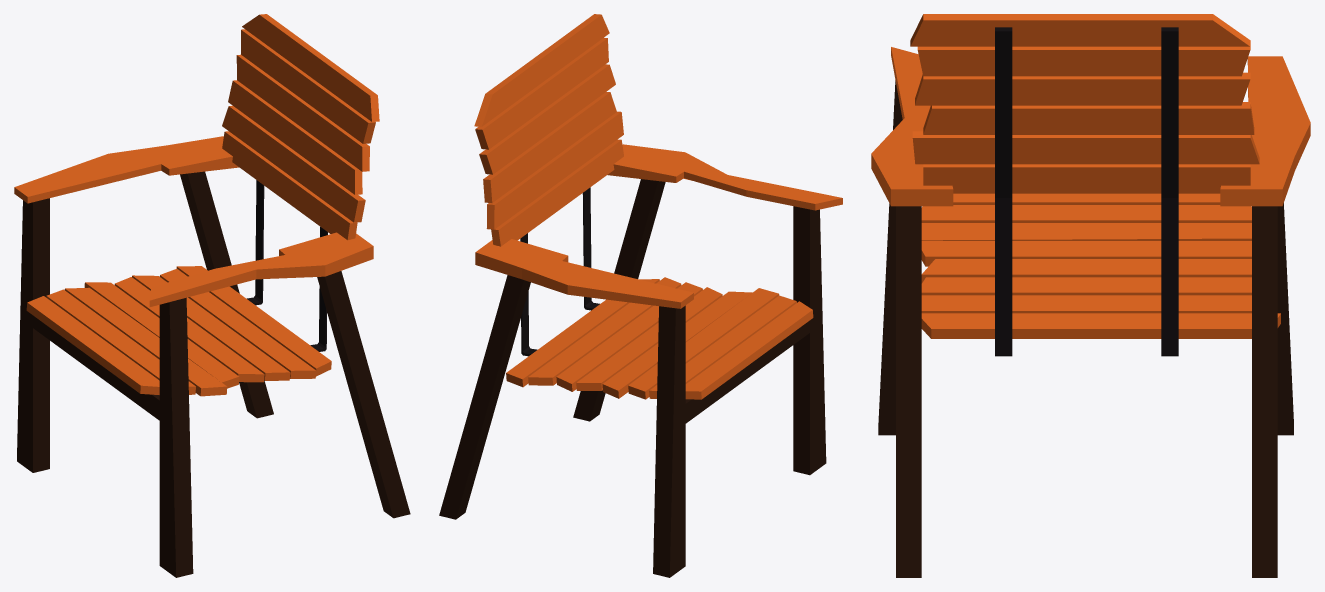
The model's file is Chair.fbx.
3 views of the same model, side by side, from view 1: azimuth 30°, elevation 25°; view 2: azimuth 150°, elevation 25°; view 3: azimuth 270°, elevation 25° (orthographic). The views are drawn at different scales.
Parts seen in each view (by area): view 1: Legs, BackRest, Bench, Armrest, Steel; view 2: Legs, BackRest, Bench, Armrest, Steel; view 3: BackRest, Bench, Legs, Armrest, Steel.
Part boxes in pixels (left/top/right/bottom): Legs: left=17, top=171, right=410, bottom=577; BackRest: left=222, top=14, right=379, bottom=240; Bench: left=26, top=266, right=331, bottom=396; Armrest: left=14, top=136, right=373, bottom=306; Steel: left=247, top=180, right=327, bottom=351; Legs: left=439, top=179, right=826, bottom=577; BackRest: left=474, top=14, right=623, bottom=246; Bench: left=506, top=277, right=813, bottom=399; Armrest: left=475, top=144, right=842, bottom=308; Steel: left=520, top=187, right=599, bottom=356; BackRest: left=910, top=14, right=1259, bottom=193; Bench: left=921, top=193, right=1280, bottom=338; Legs: left=878, top=80, right=1293, bottom=577; Armrest: left=871, top=47, right=1310, bottom=206; Steel: left=995, top=27, right=1178, bottom=356.
Size of the model in its own units: 226 by 343 by 251.
